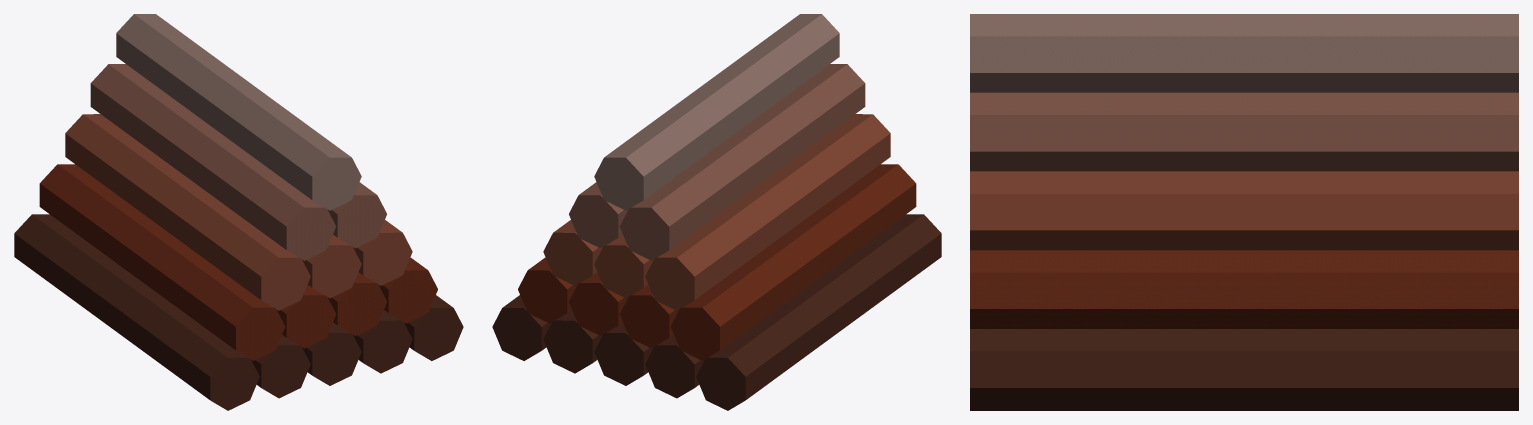
Rendered from Holzstapel.fbx.
The picture shows the model from 3 angles, left to right: view 1: azimuth 30°, elevation 25°; view 2: azimuth 150°, elevation 25°; view 3: azimuth 270°, elevation 25°; orthographic projection. The views are drawn at different scales.
Parts seen in each view (by area): view 1: Holzstapel_1; view 2: Holzstapel_1; view 3: Holzstapel_1.
Part boxes in pixels (x1,y1,x2,y2): Holzstapel_1: (14, 14, 463, 410); Holzstapel_1: (492, 14, 941, 410); Holzstapel_1: (970, 14, 1518, 410).
Bounding box in the file's own units: 224 × 193 × 300.
Materials: 5 (5 with a texture image).
